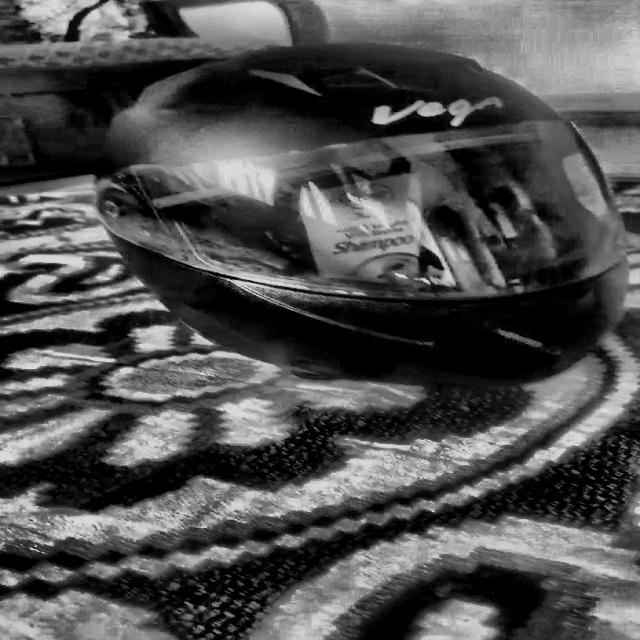Helmet: (109, 40, 640, 393)
